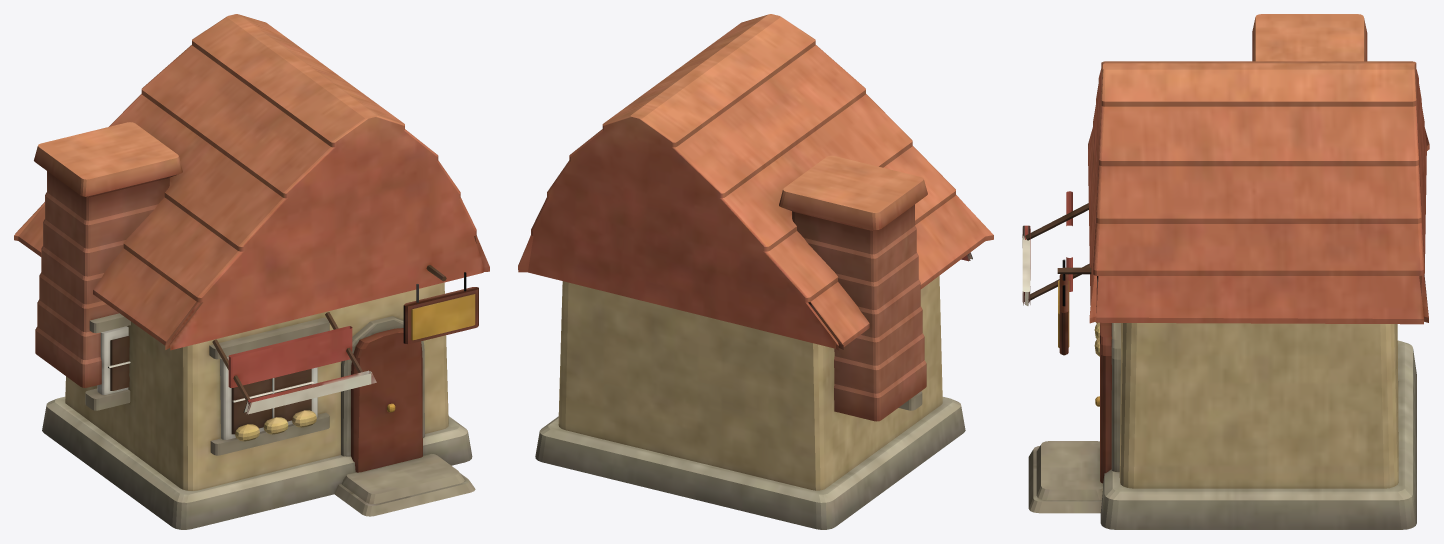
Rendered from bakery.glb.
3 views of the same model, side by side, from view 1: azimuth 30°, elevation 25°; view 2: azimuth 150°, elevation 25°; view 3: azimuth 270°, elevation 25° (orthographic). The views are drawn at different scales.
Visible parts, largest first — view 1: Bakery; view 2: Bakery; view 3: Bakery.
Part boxes in pixels (bbox=[...]): Bakery: bbox=[14, 14, 489, 529]; Bakery: bbox=[518, 14, 993, 529]; Bakery: bbox=[1022, 14, 1429, 529].
Bounding box in the file's own units: 3.88 × 4.06 × 3.68.
1 material, 1 textured.
